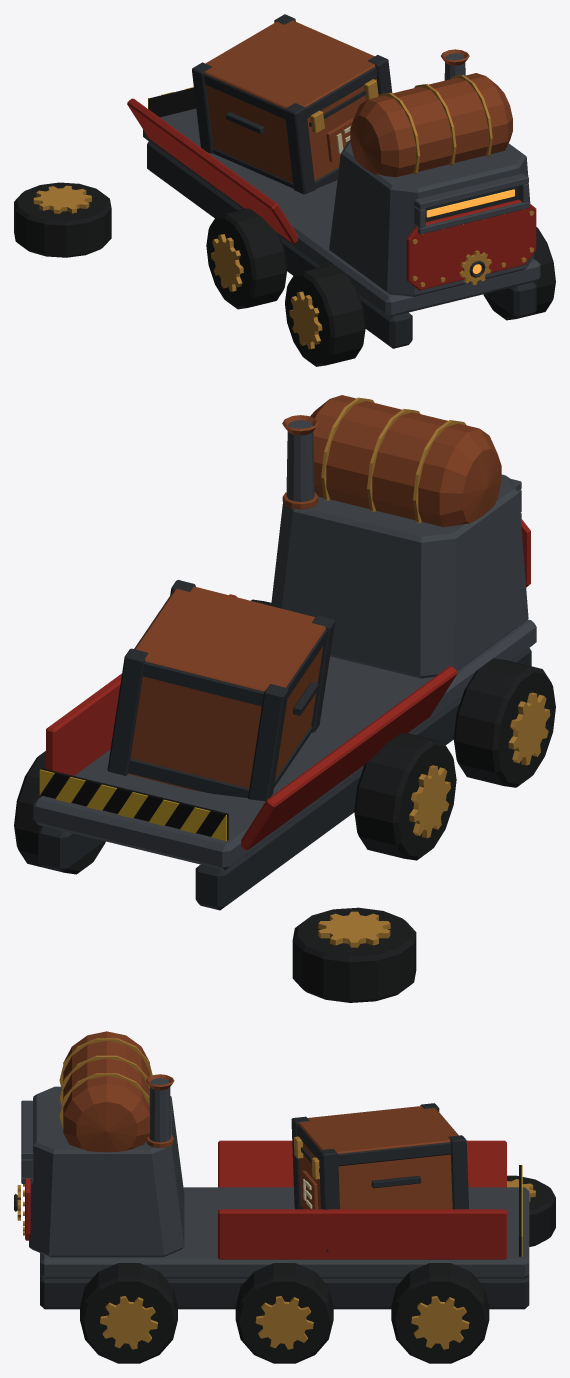
Rendered from cog_hauler_wreck.fbx.
The picture shows the model from 3 angles, top to bottom: view 1: azimuth 30°, elevation 25°; view 2: azimuth 150°, elevation 25°; view 3: azimuth 270°, elevation 25°; orthographic projection. The views are drawn at different scales.
Parts seen in each view (by area): view 1: Body, Glow; view 2: Body; view 3: Body.
Boxes of the visible parts, bbox=[...] form: Body: bbox=[14, 14, 555, 366]; Glow: bbox=[426, 189, 514, 273]; Body: bbox=[14, 395, 555, 1002]; Body: bbox=[14, 1031, 555, 1363].
Bounding box in the file's own units: 16.74 × 12.72 × 24.37.
Materials: 2 (1 with a texture image).
